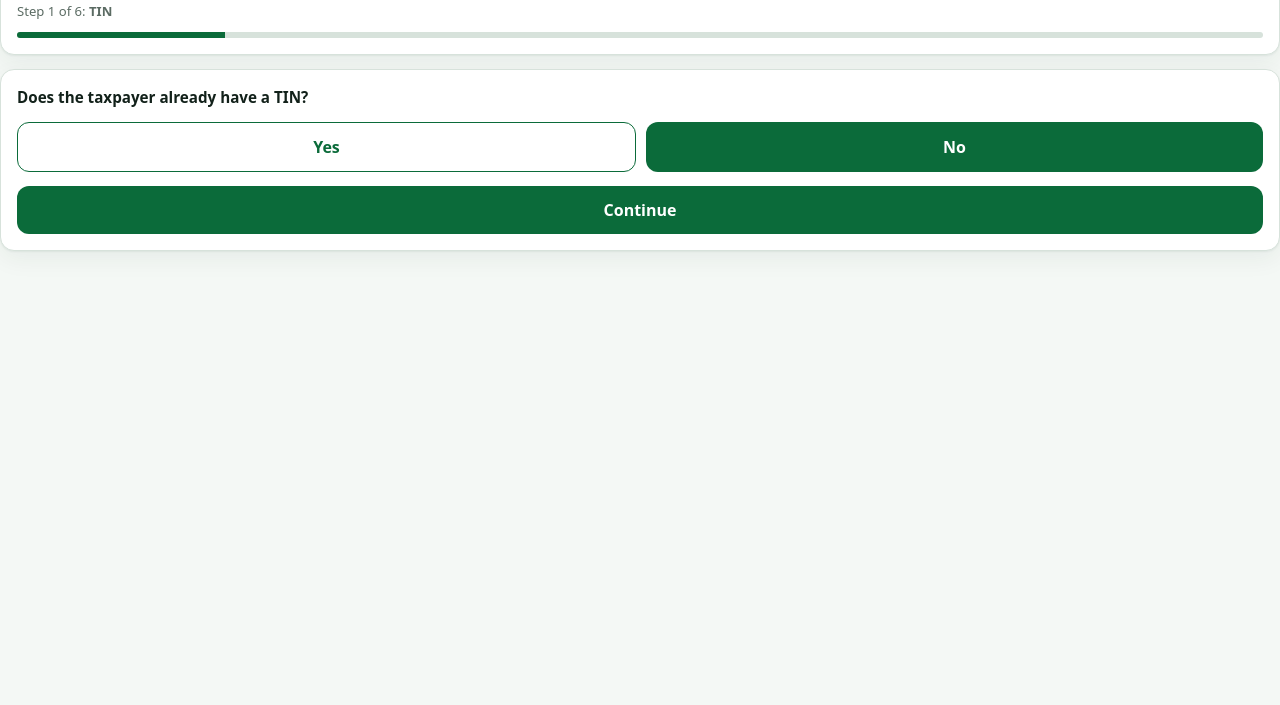
it: registering somebody when the LGA list did not arrive › says so in the dropdown as well, and offers the read again
Click the button "Continue" at (640,210), box [17,186,1263,234]
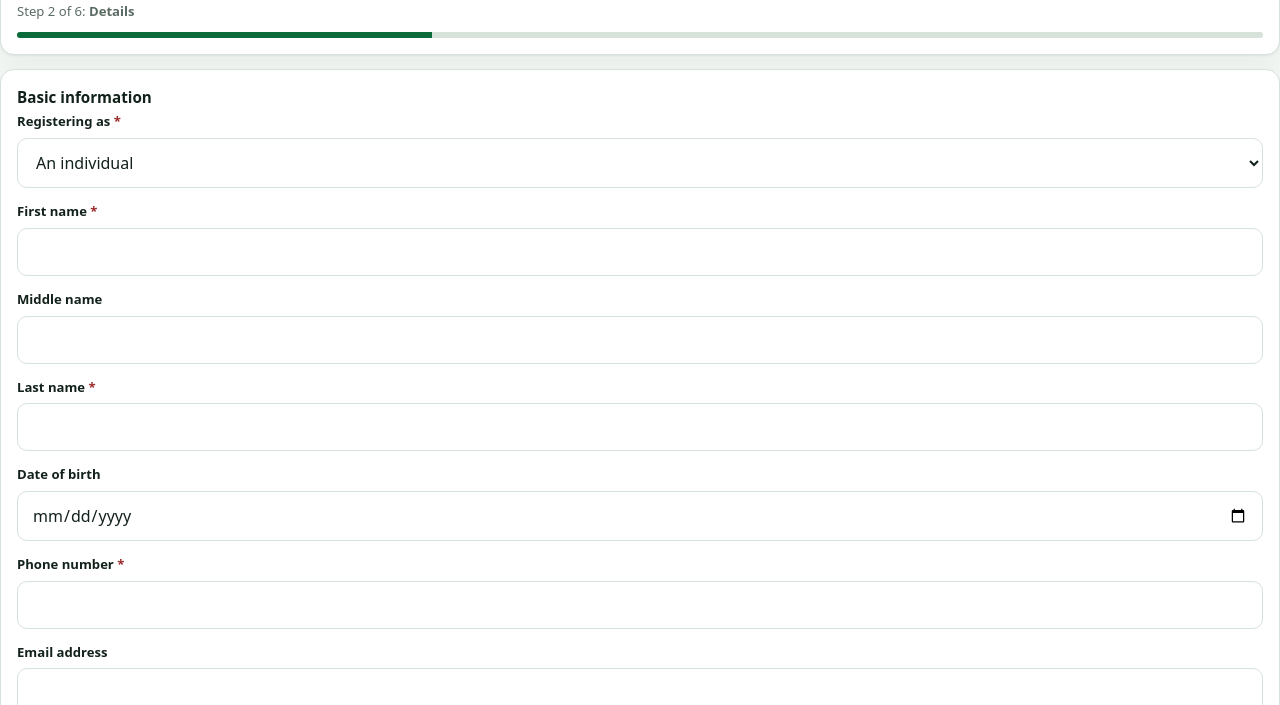
Type "Ladi" into the field labelled "First name" at (640,252), box [17,228,1263,276]
Type "Bala" into the field labelled "Last name" at (640,427), box [17,403,1263,451]
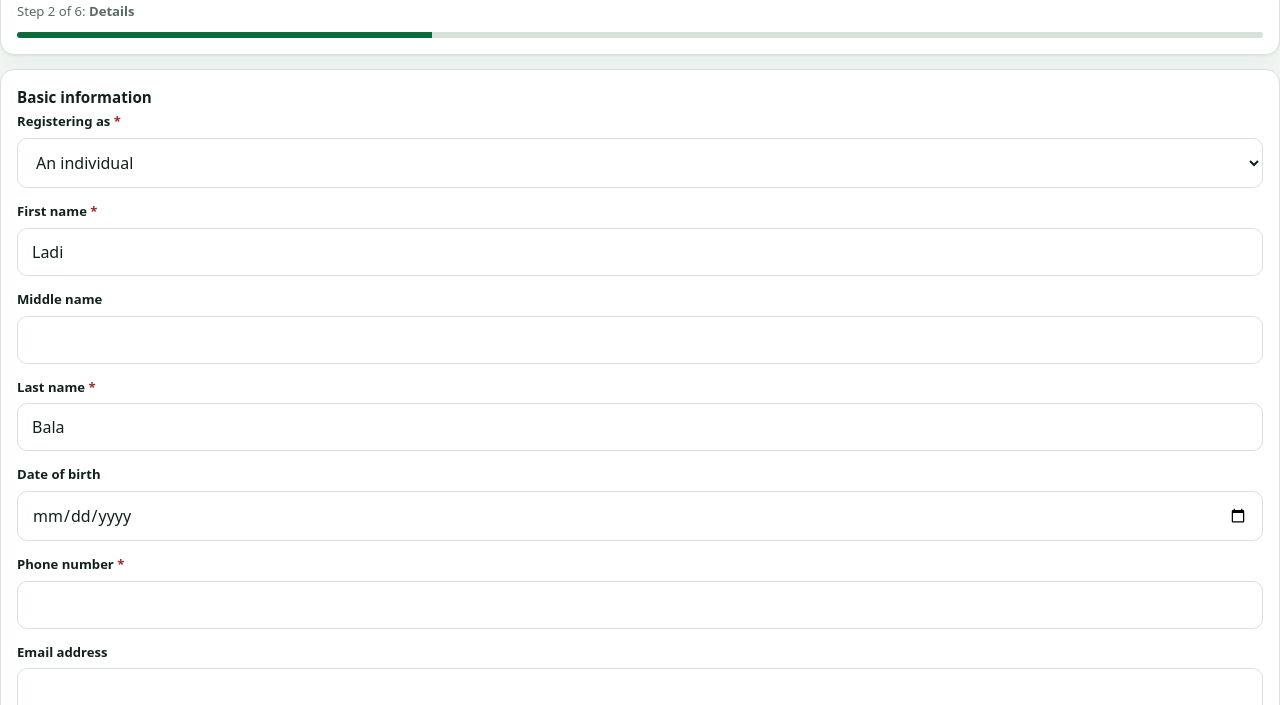
Type "08030000001" into the field labelled "Phone number" at (640,605), box [17,581,1263,629]
(page scrolled)
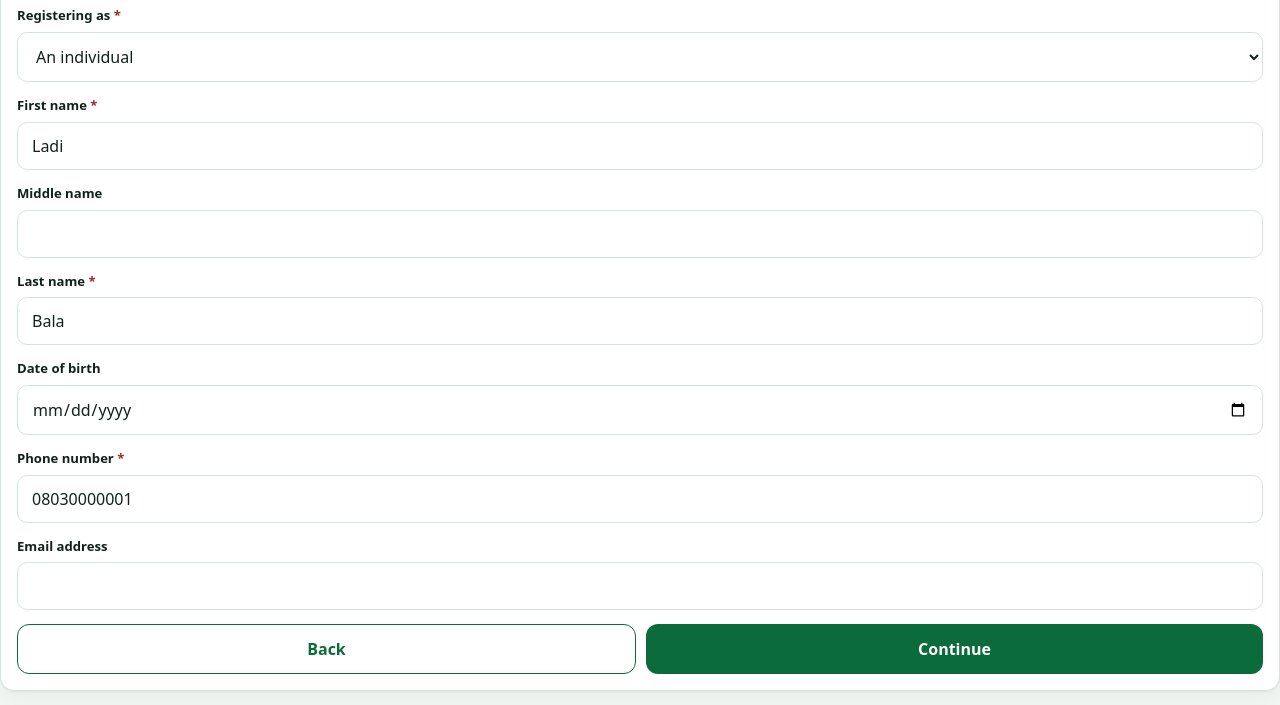
Click the button "Continue" at (954,649), box [646,624,1263,674]
(page scrolled)
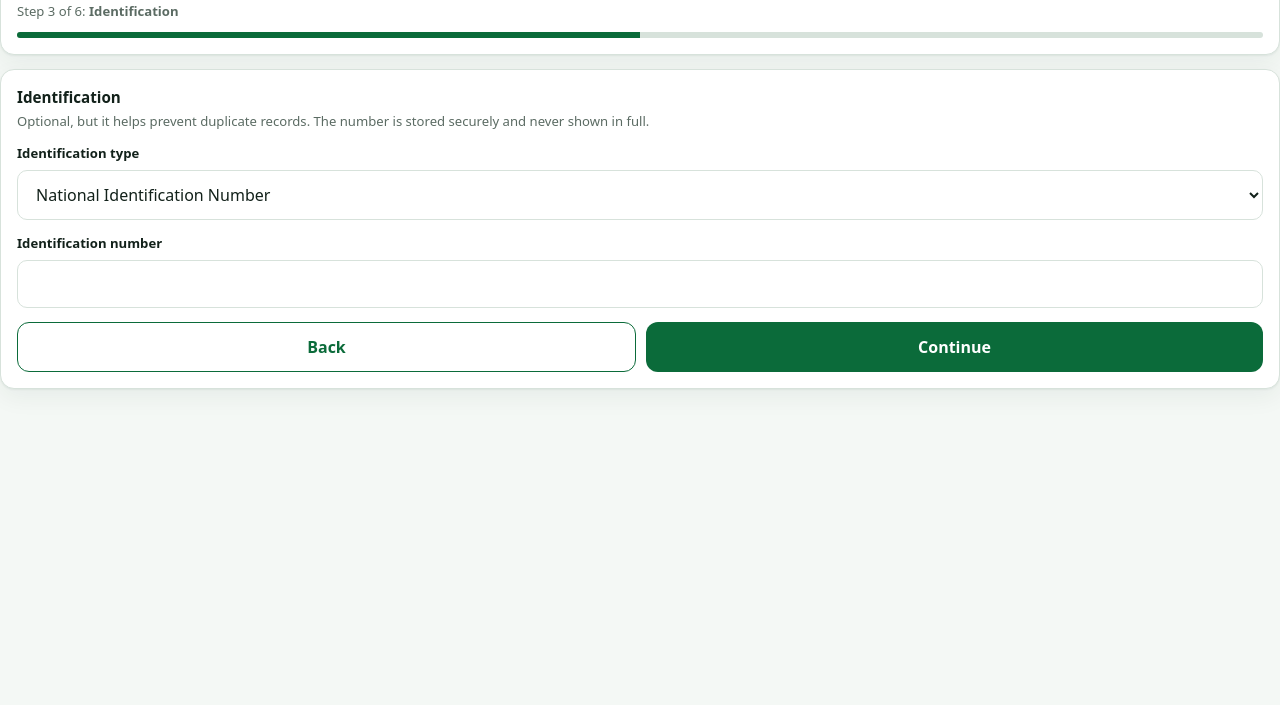
Click the button "Continue" at (954,346), box [646,322,1263,372]
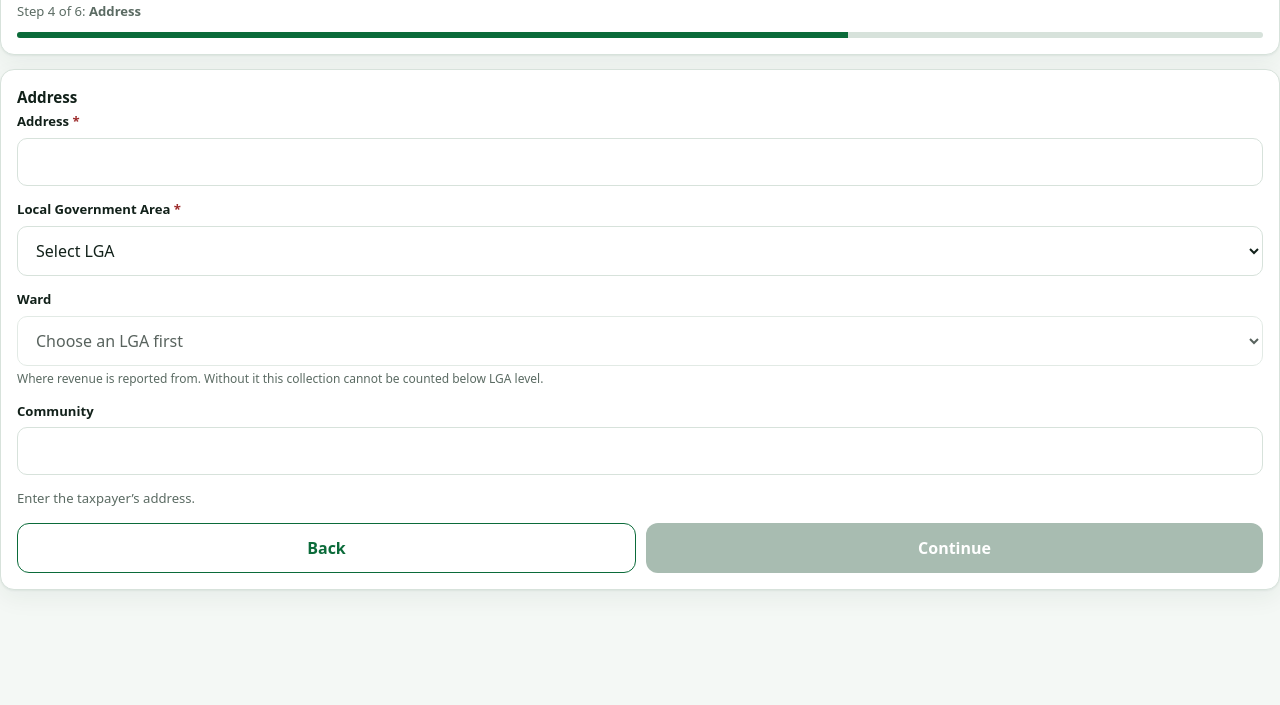
Type "14 Rukuba Road" into the field labelled "Address" at (640,162), box [17,138,1263,186]
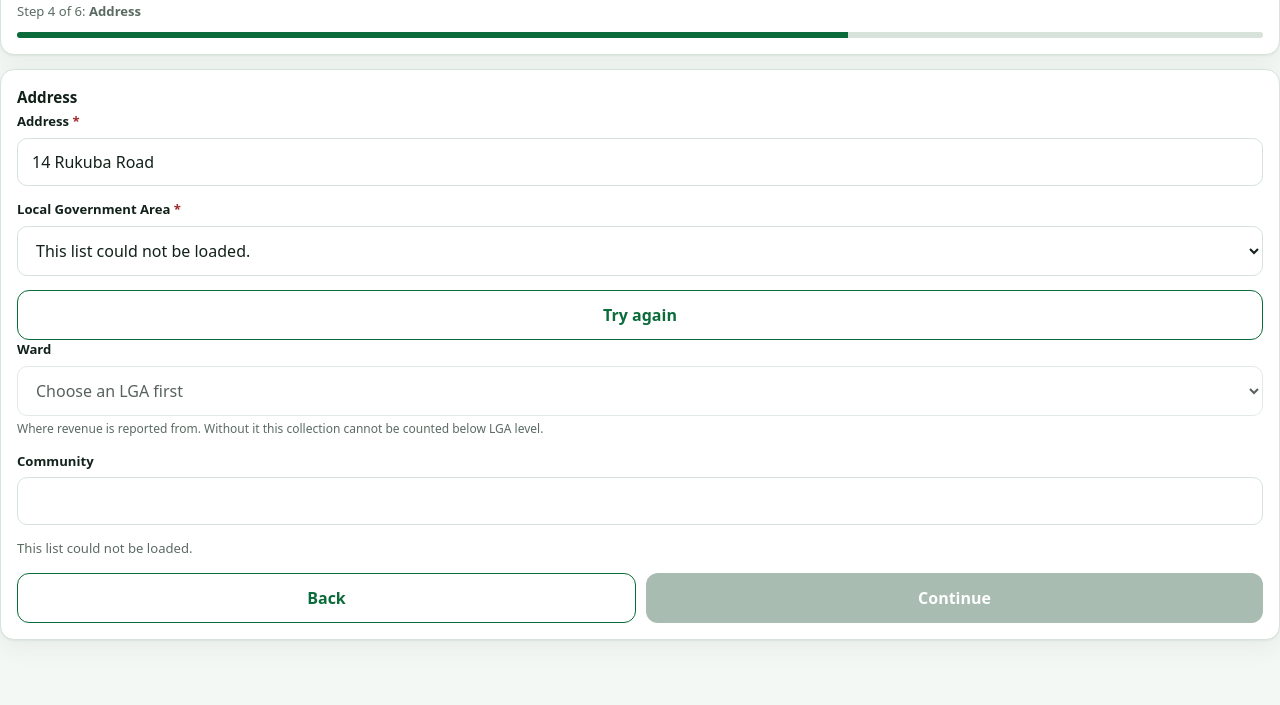
Expected: the text "Select LGA" is not shown
Expected: the button "Try again" is shown, [17,290,1263,340]
